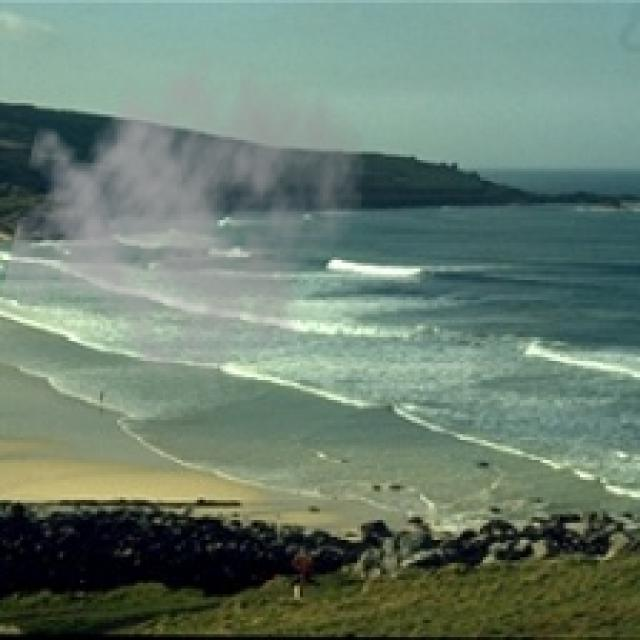smoke: (0, 29, 369, 400)
